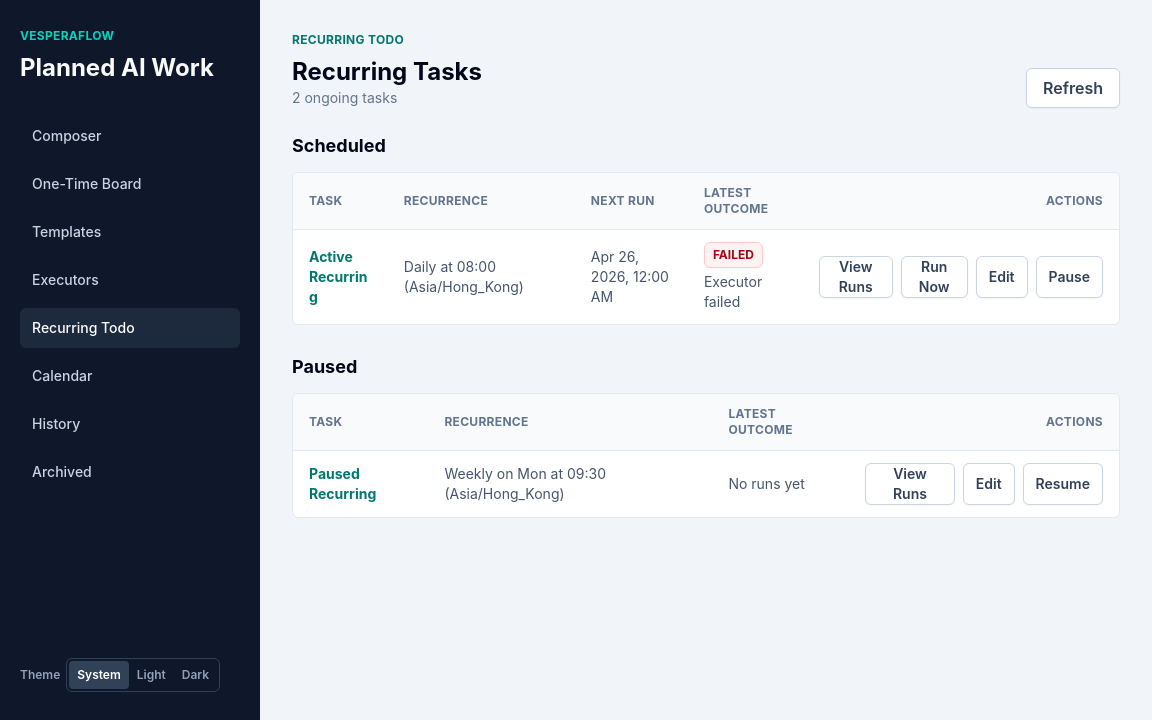
Test: App › opens the recurring run archive from recurring todo
Click the button "View Runs" in the row of "Daily at 08:00 (Asia/Hong_Kong)" at [856, 277], box x1=819 y1=256 x2=893 y2=298
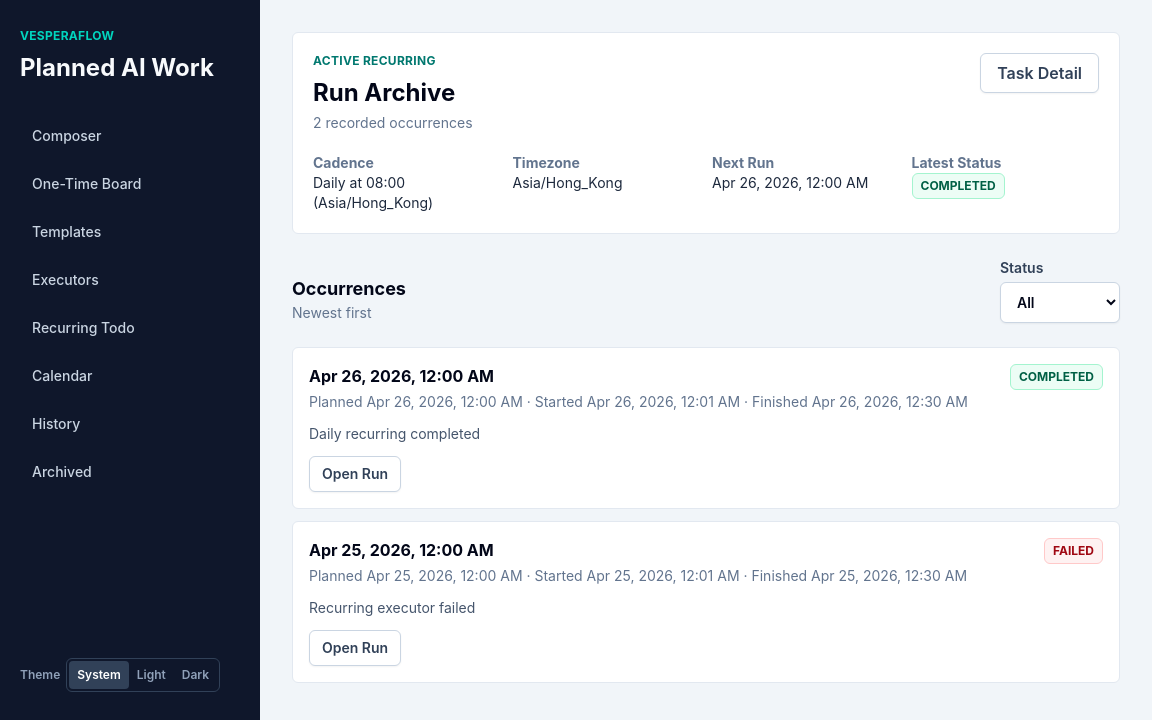
Result: the text "Run Archive" is shown at x1=313 y1=77 x2=472 y2=109
Result: the text "Daily recurring completed" is shown at x1=309 y1=425 x2=480 y2=442
